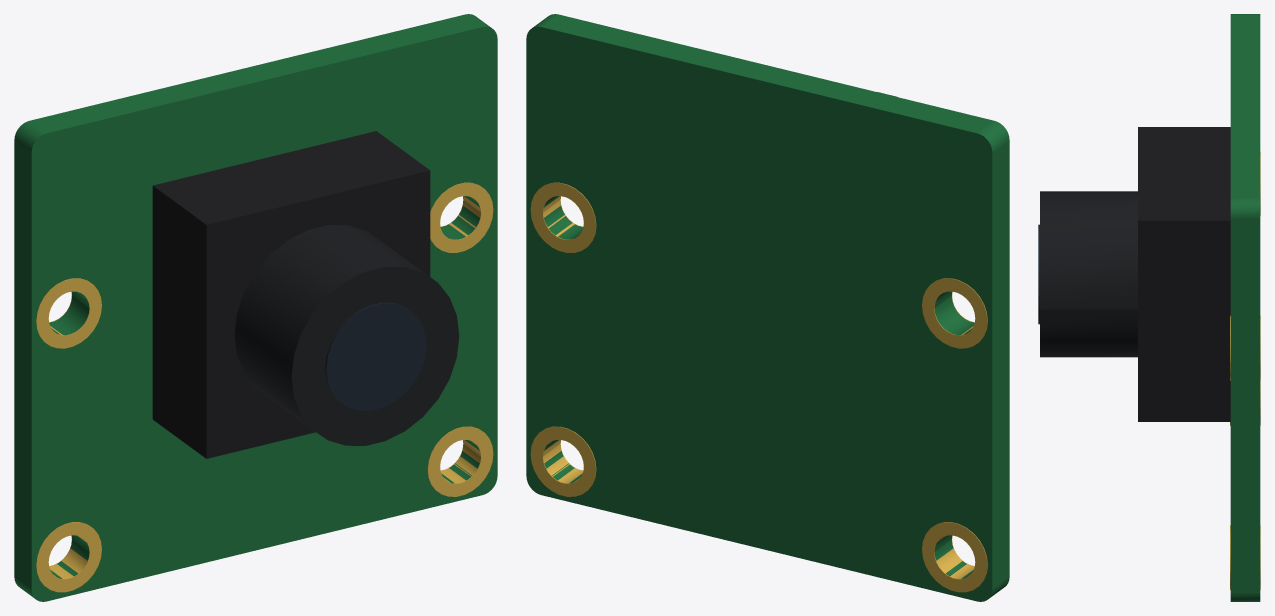
Rendered from rpi-ai-camera-bb.glb.
3 views of the same model, side by side, from view 1: azimuth 30°, elevation 25°; view 2: azimuth 150°, elevation 25°; view 3: azimuth 270°, elevation 25° (orthographic). The views are drawn at different scales.
Visible parts, largest first — view 1: board, sensor_block, lens, lens_glass, hole_2, hole_1, hole_4, hole_3; view 2: board, hole_2, hole_1, hole_4, hole_3; view 3: sensor_block, board, lens.
Part boxes in pixels (x1=…): board: x1=14, y1=14, x2=497, y2=601; sensor_block: x1=152, y1=131, x2=430, y2=458; lens: x1=234, y1=225, x2=459, y2=445; lens_glass: x1=325, y1=302, x2=426, y2=410; hole_2: x1=427, y1=426, x2=493, y2=496; hole_1: x1=36, y1=522, x2=101, y2=592; hole_4: x1=430, y1=182, x2=493, y2=252; hole_3: x1=36, y1=278, x2=101, y2=348; board: x1=526, y1=14, x2=1009, y2=601; hole_2: x1=530, y1=426, x2=596, y2=496; hole_1: x1=922, y1=522, x2=987, y2=592; hole_4: x1=530, y1=182, x2=596, y2=252; hole_3: x1=922, y1=278, x2=987, y2=348; sensor_block: x1=1138, y1=127, x2=1230, y2=421; board: x1=1230, y1=14, x2=1260, y2=601; lens: x1=1040, y1=191, x2=1137, y2=357.
Bounding box in the file's own units: 25 × 24 × 12.03.
